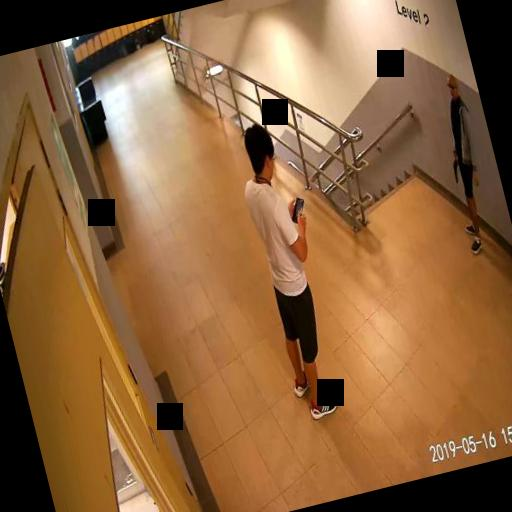Handgun: (449, 158, 461, 183)
